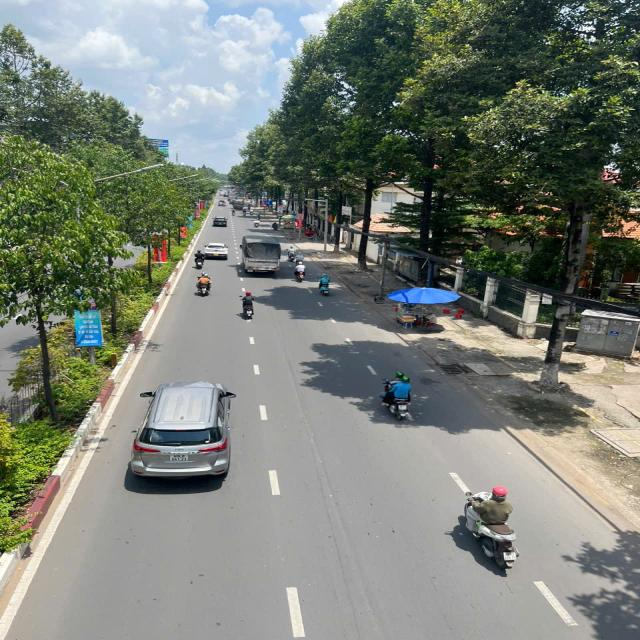ben: (238, 230, 287, 281)
car: (125, 377, 248, 492), (203, 236, 234, 264), (207, 210, 233, 232)
motobyte: (447, 478, 538, 585), (382, 365, 423, 426), (235, 284, 265, 326), (315, 269, 341, 303), (192, 268, 218, 300), (292, 255, 312, 288), (192, 247, 207, 268)
